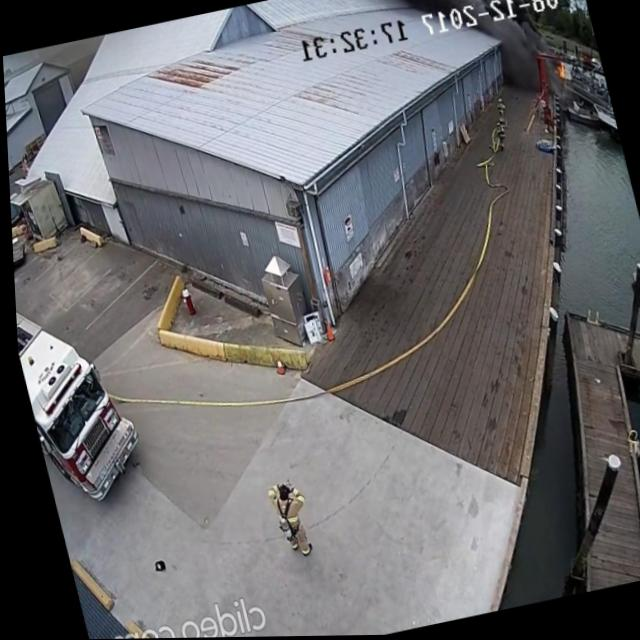fire: (546, 58, 572, 92)
